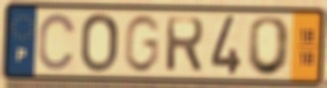4: (208, 13, 244, 78)
C: (36, 12, 78, 73)
G: (122, 13, 163, 76)
O: (244, 14, 294, 78), (79, 11, 121, 75)
R: (164, 15, 207, 75)
